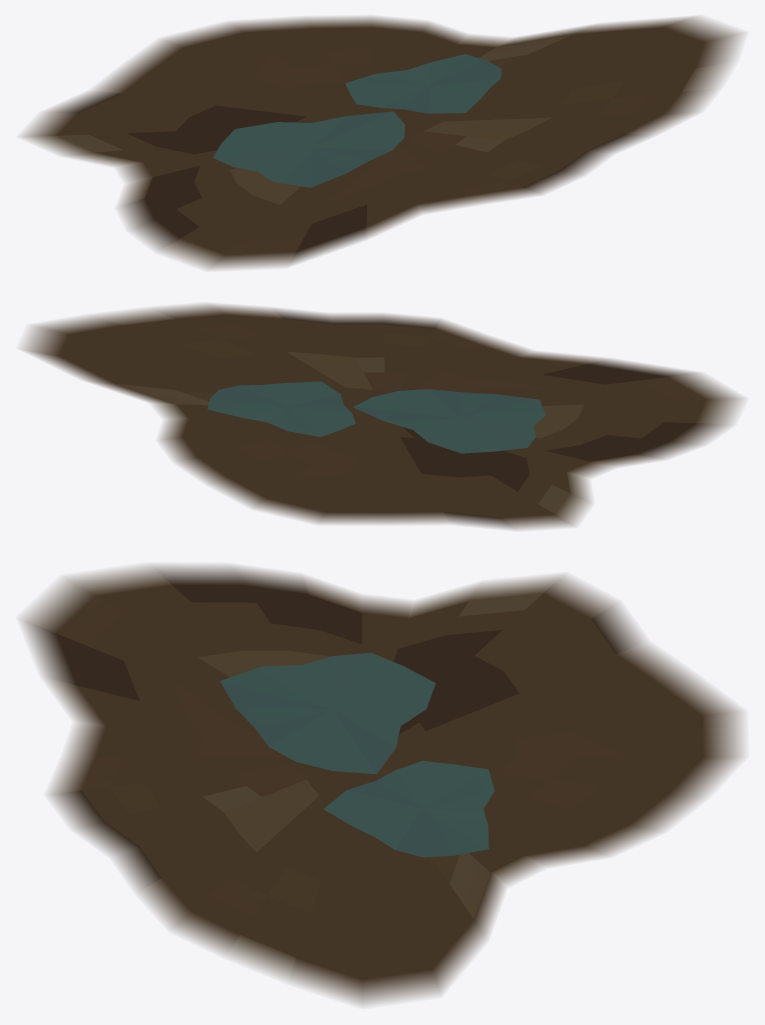
File: swamp_a.glb
3 renders of one model, top to bottom at view 1: azimuth 30°, elevation 25°; view 2: azimuth 150°, elevation 25°; view 3: azimuth 270°, elevation 25°, orthographic. The views are drawn at different scales.
Parts seen in each view (by area): view 1: swamp_a; view 2: swamp_a; view 3: swamp_a.
Part boxes in pixels (x1=…): swamp_a: x1=21, y1=16, x2=743, y2=269; swamp_a: x1=21, y1=303, x2=743, y2=529; swamp_a: x1=21, y1=565, x2=743, y2=1005.
Bounding box in the file's own units: 6.18 × 0.015 × 4.28.
